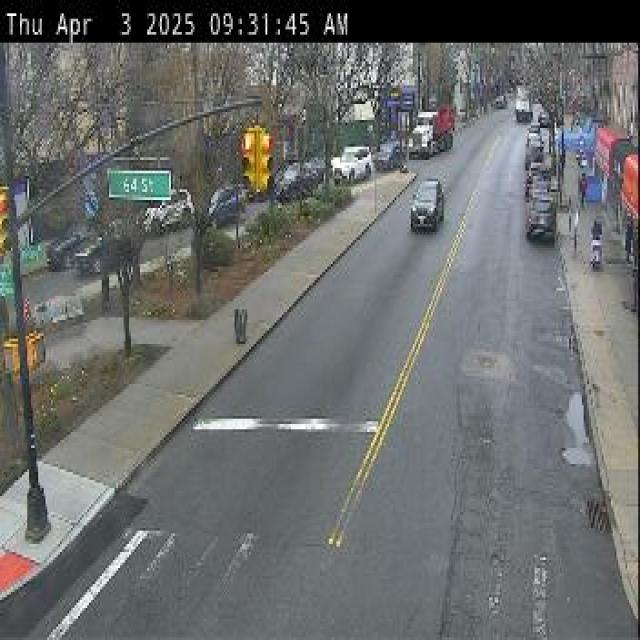open parking: (522, 258, 618, 589)
parkedCars: (519, 115, 565, 255)
